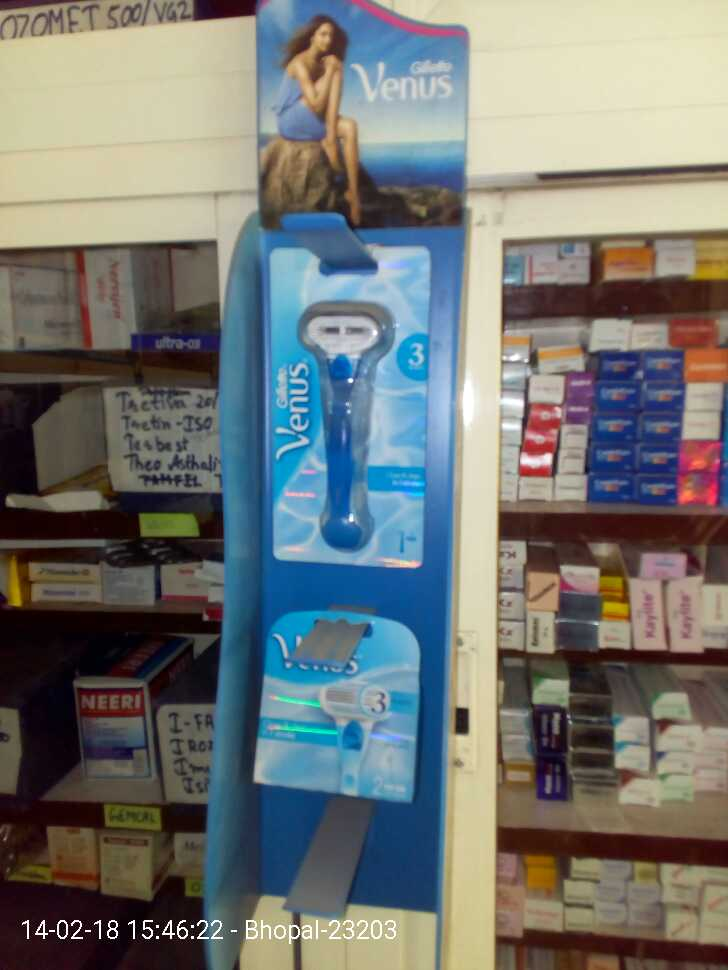venus: (251, 238, 438, 576), (241, 618, 424, 810)
